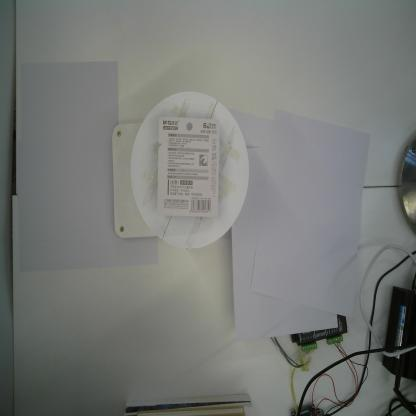Stationery: (157, 116, 219, 218)
